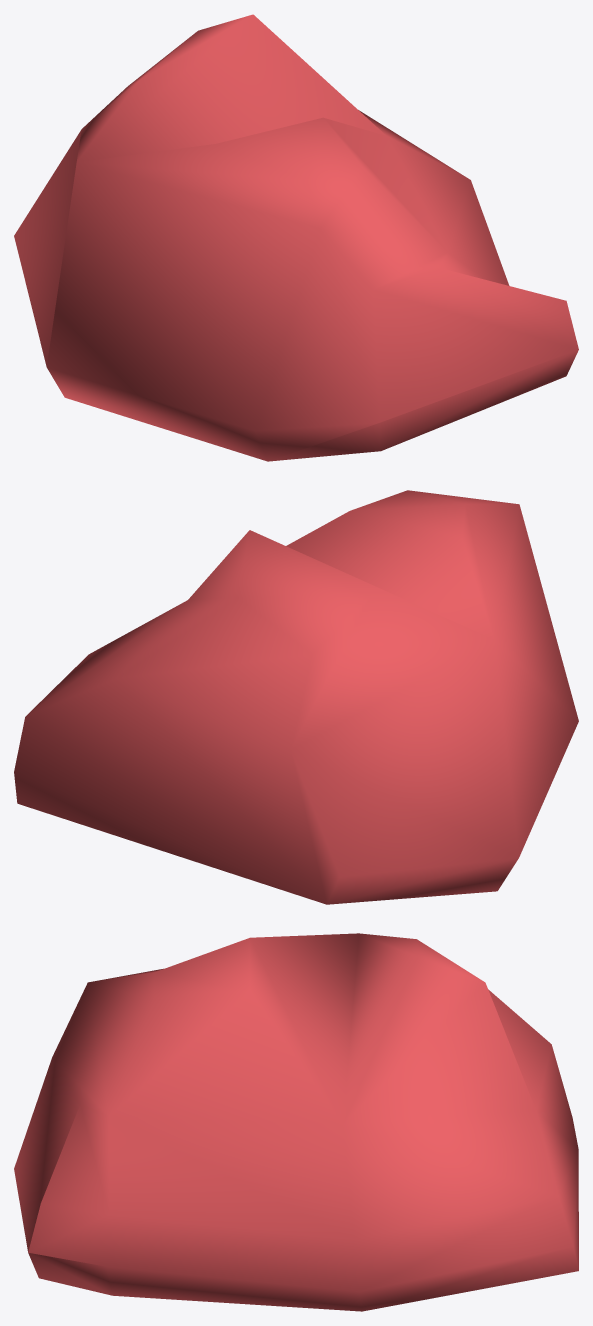
The model's file is stonecandy.fbx.
3 renders of one model, top to bottom at view 1: azimuth 30°, elevation 25°; view 2: azimuth 150°, elevation 25°; view 3: azimuth 270°, elevation 25°, orthographic. The views are drawn at different scales.
Parts seen in each view (by area): view 1: Cube; view 2: Cube; view 3: Cube.
Boxes of the visible parts, box(x1,y1,x2,y2) form: Cube: box(14, 14, 578, 461); Cube: box(14, 490, 578, 904); Cube: box(14, 933, 578, 1311).
Size of the model in its own units: 22.51 by 15.83 by 25.58.
